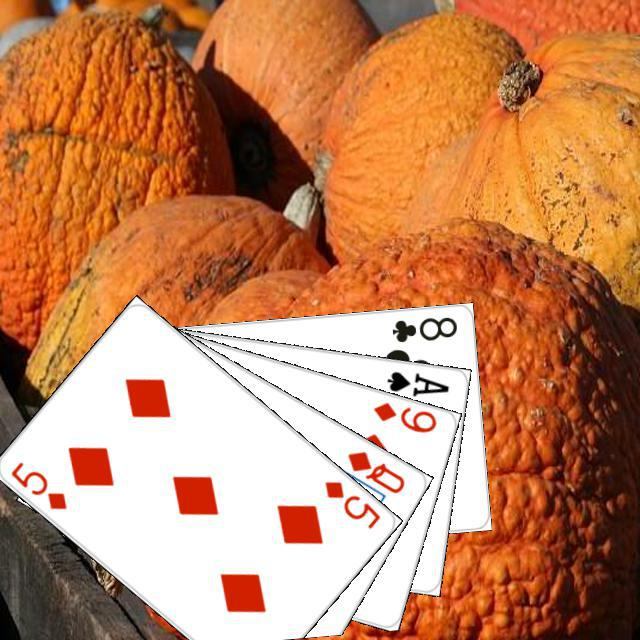5d: (6, 456, 69, 512), (319, 476, 382, 531)
8c: (386, 311, 459, 344)
9d: (368, 397, 439, 435)
As: (382, 366, 451, 399)
Qd: (342, 446, 407, 496)
